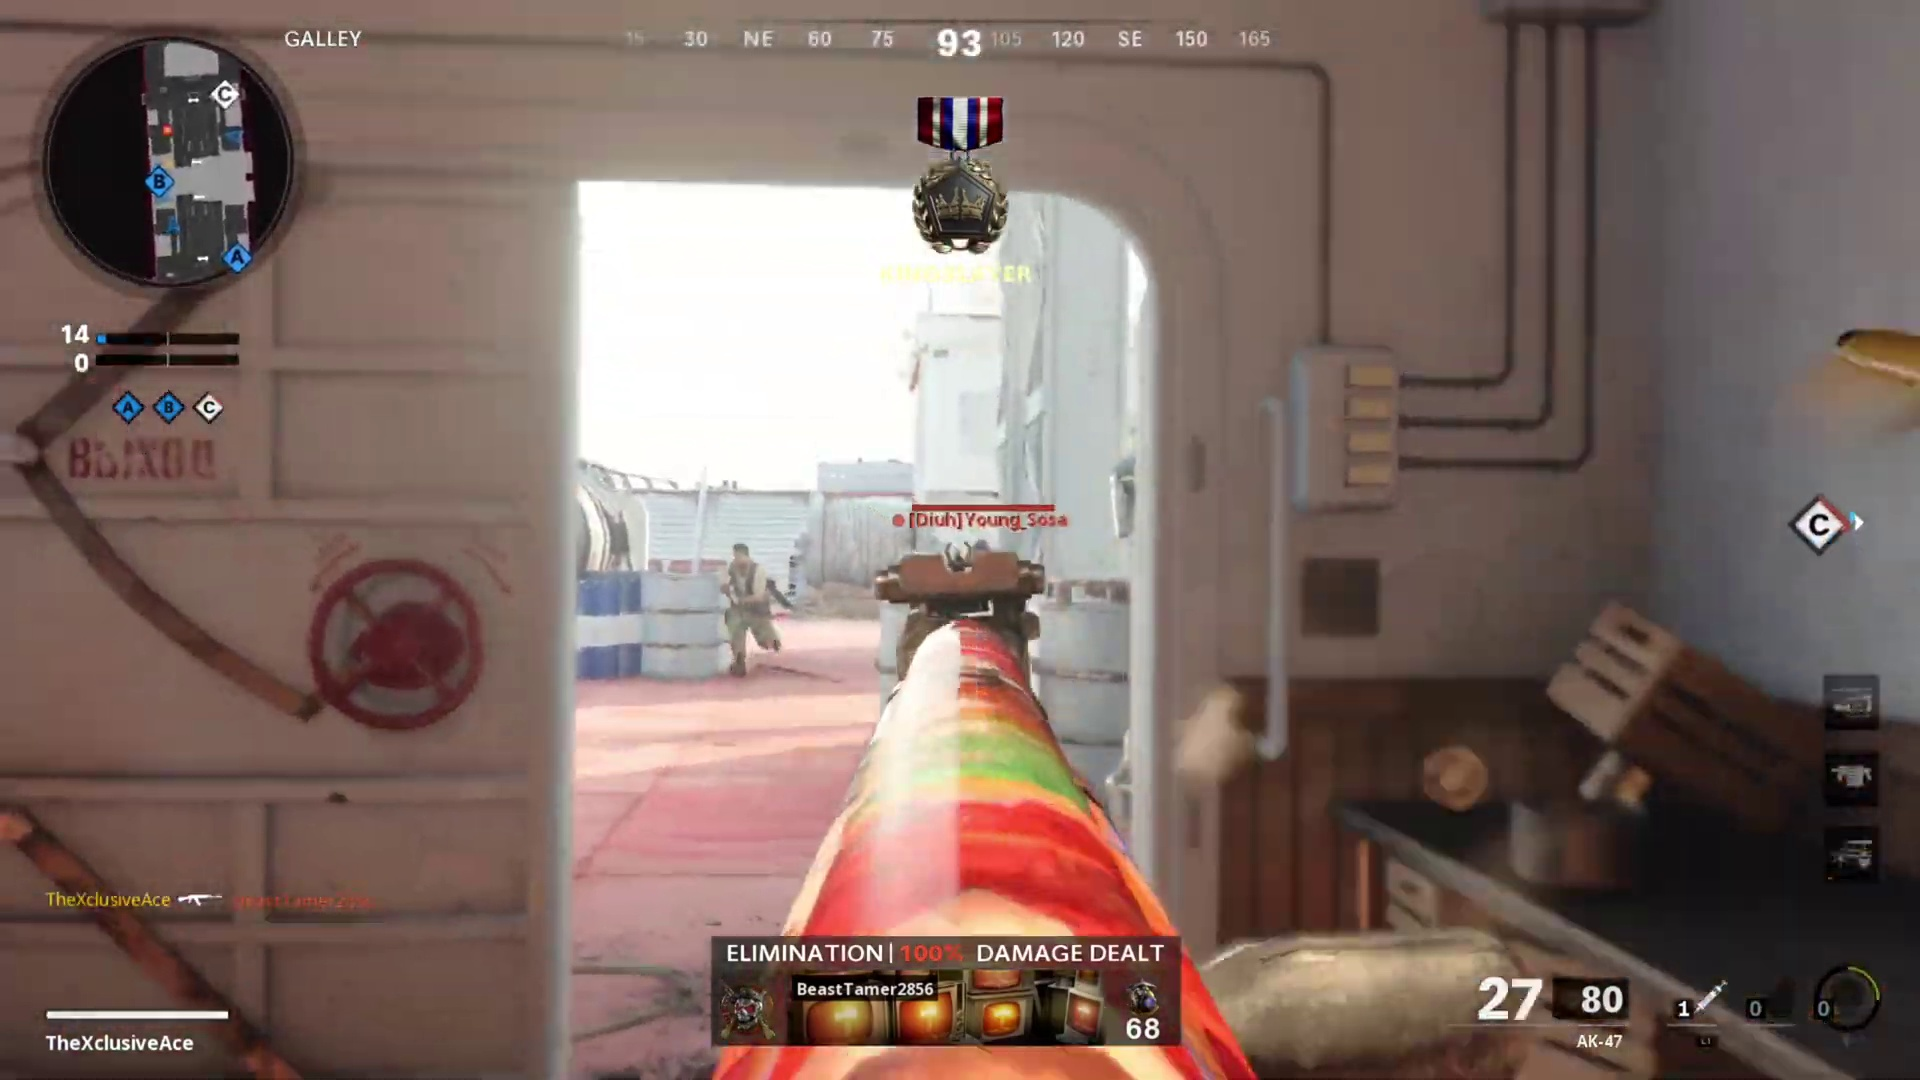head: (727, 541, 754, 574)
person: (717, 540, 785, 675)
